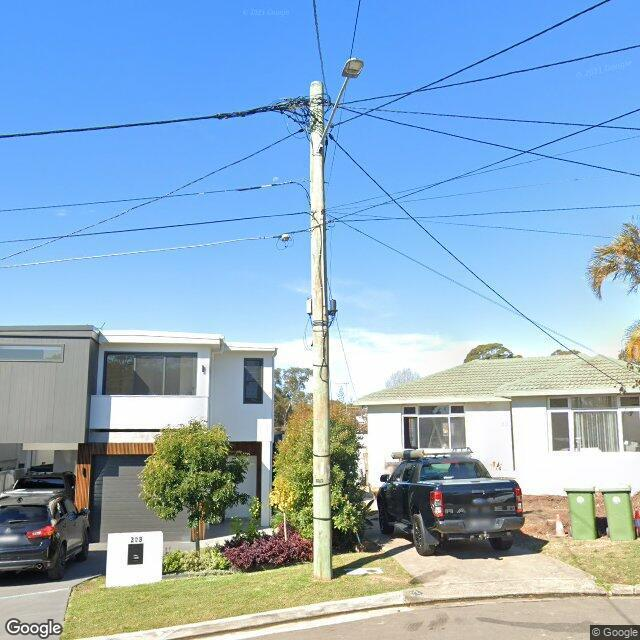streetlight: (317, 57, 362, 161)
timber-pole: (309, 80, 333, 580)
